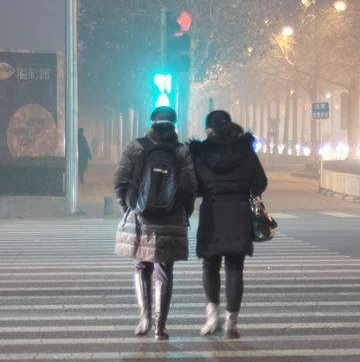person: (110, 103, 199, 344), (189, 109, 278, 340), (77, 126, 92, 185)
